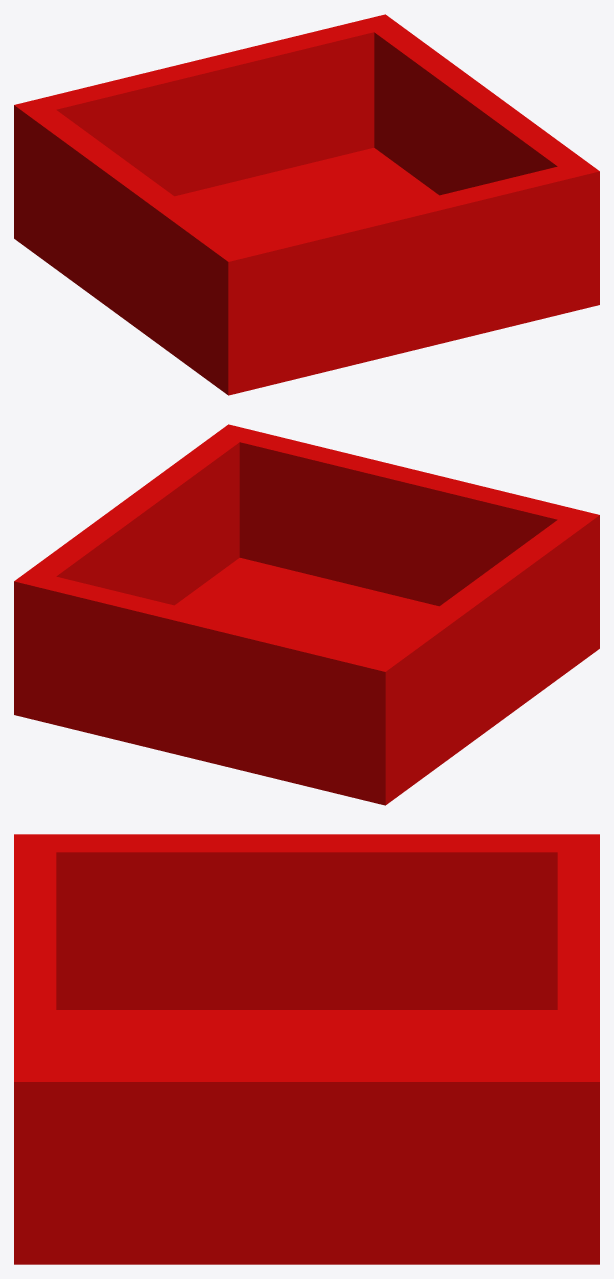
File: Square.fbx
The picture shows the model from 3 angles, top to bottom: view 1: azimuth 30°, elevation 25°; view 2: azimuth 150°, elevation 25°; view 3: azimuth 270°, elevation 25°; orthographic projection. The views are drawn at different scales.
Visible parts, largest first — view 1: pCube25; view 2: pCube25; view 3: pCube25.
Boxes of the visible parts, x1=… form: pCube25: x1=14, y1=14, x2=599, y2=395; pCube25: x1=14, y1=424, x2=599, y2=805; pCube25: x1=14, y1=834, x2=599, y2=1264.
Bounding box in the file's own units: 3.03 × 1.04 × 3.03.
